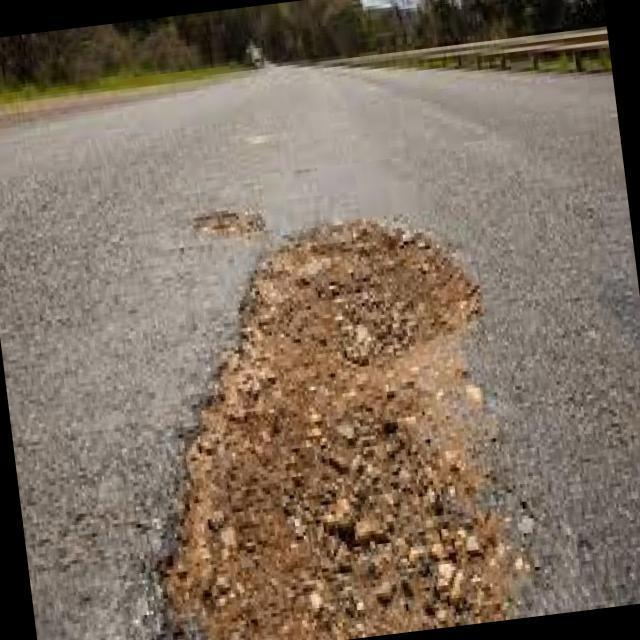Pothole: (155, 216, 535, 640), (157, 216, 532, 640)
